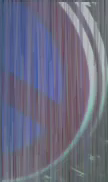No waiting: (4, 0, 94, 174)
